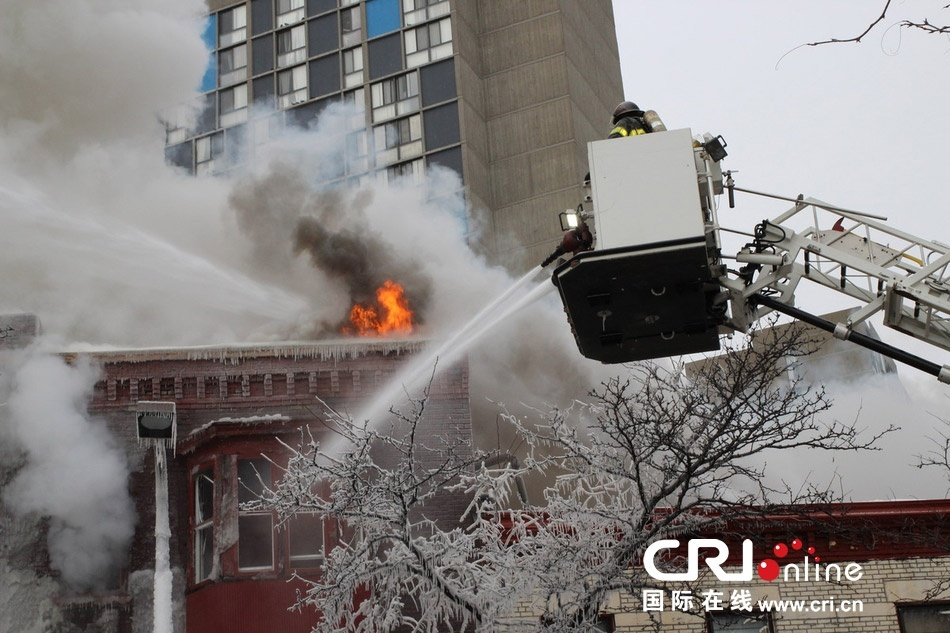fire: (343, 278, 416, 336)
